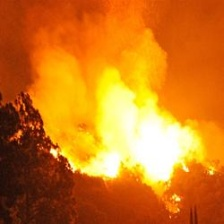fire: (56, 96, 197, 181)
